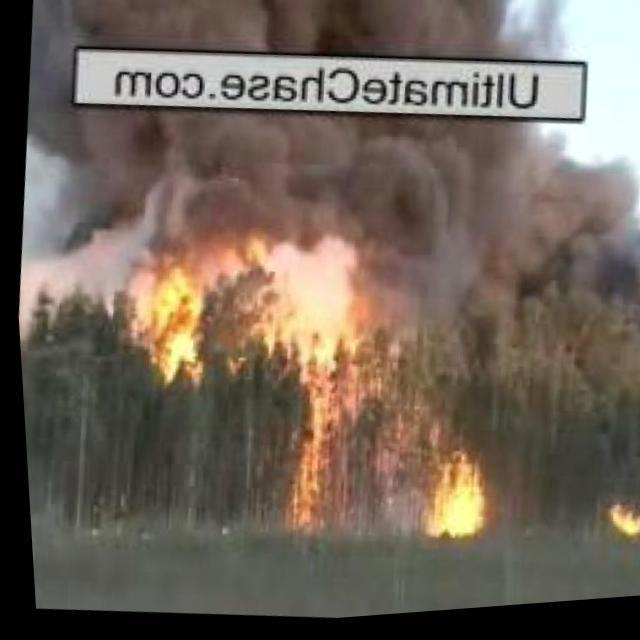fire: (256, 345, 356, 547), (400, 446, 492, 550), (128, 270, 208, 382), (591, 501, 640, 544)
